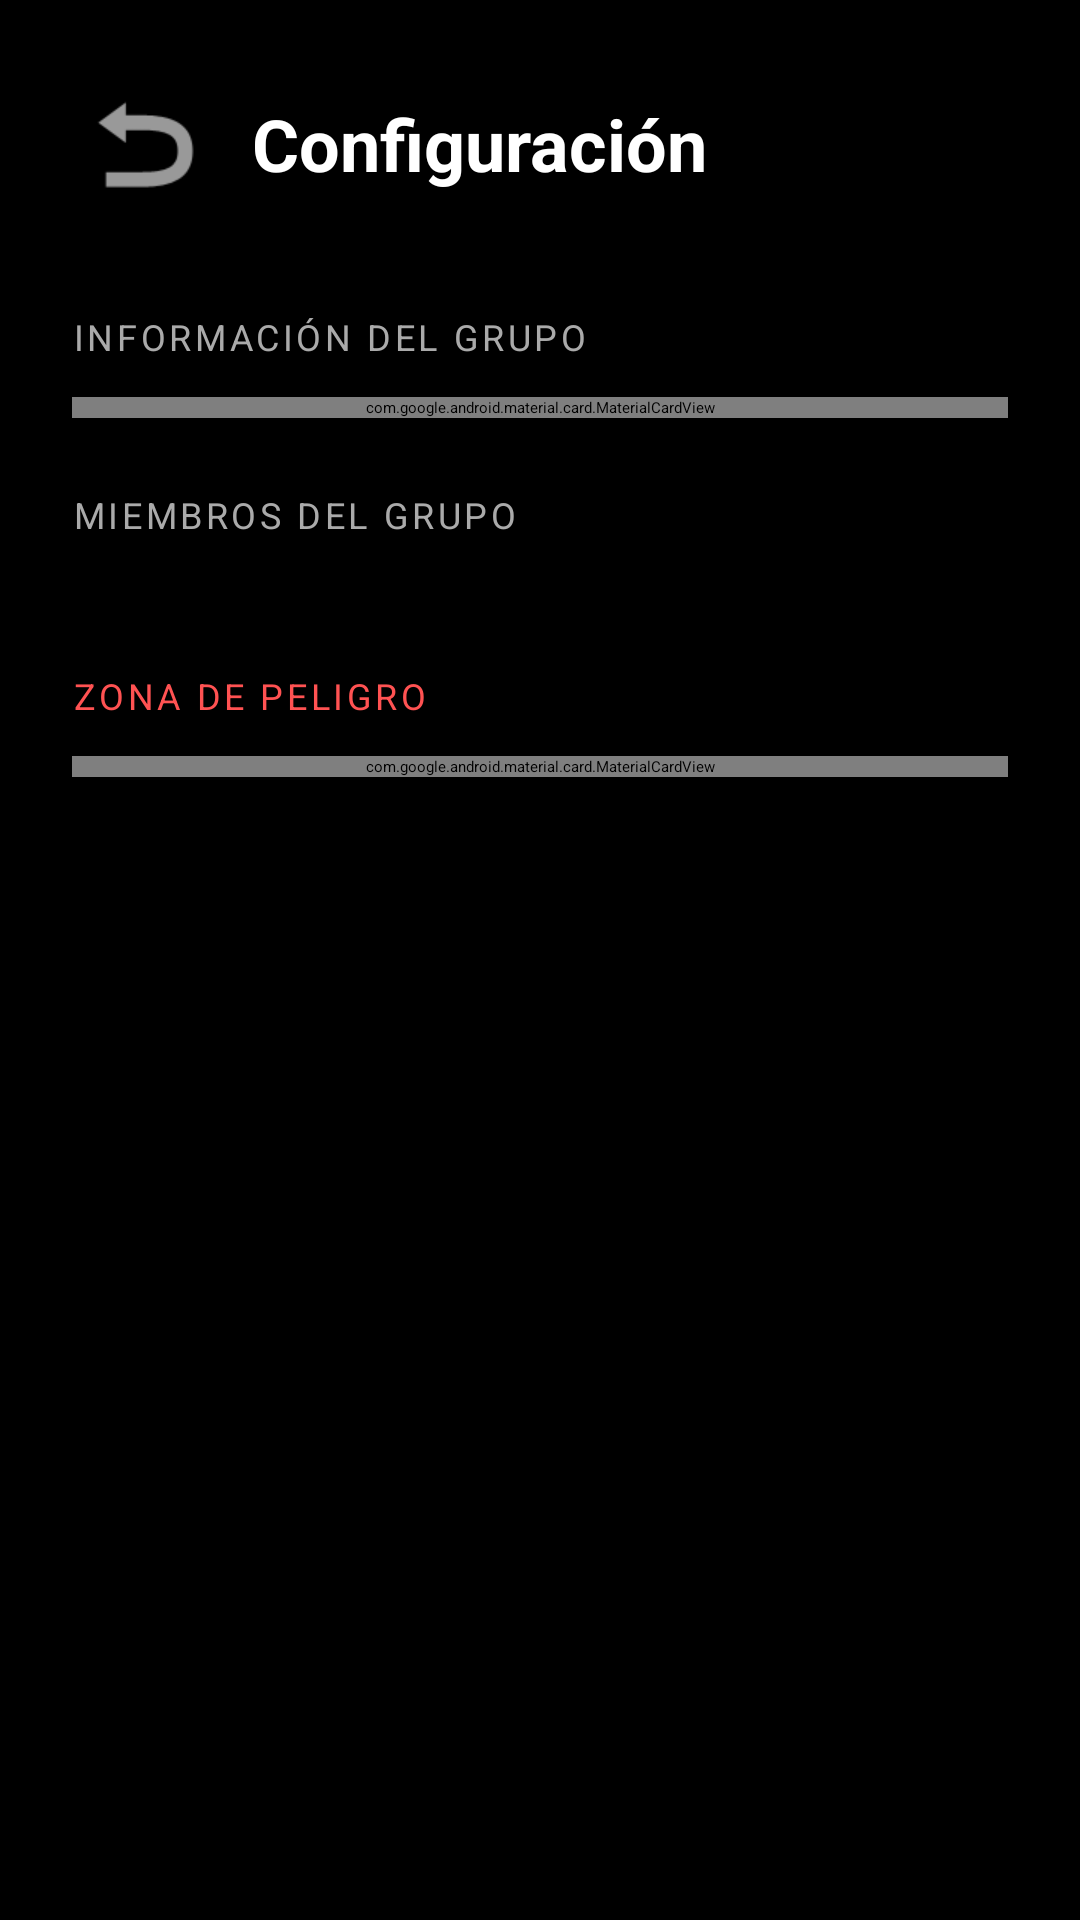

Locate icon controls on the screen. Image size 1080px x 1920px, boxes as (x1, y1, x2, y2).
Atrás: (98, 102, 194, 188)
